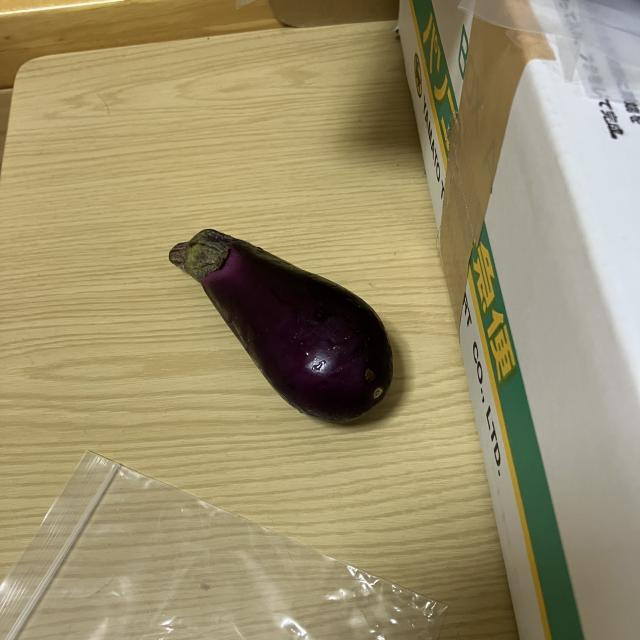eggplant: (164, 228, 396, 427)
